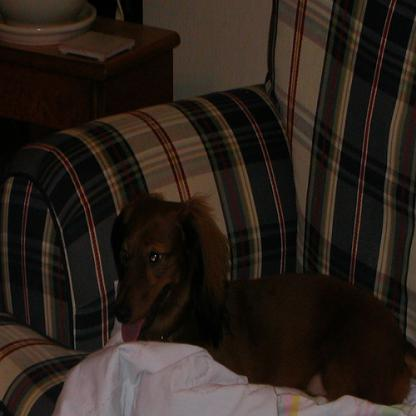dog: (108, 188, 414, 407)
sofa: (0, 0, 414, 413)
